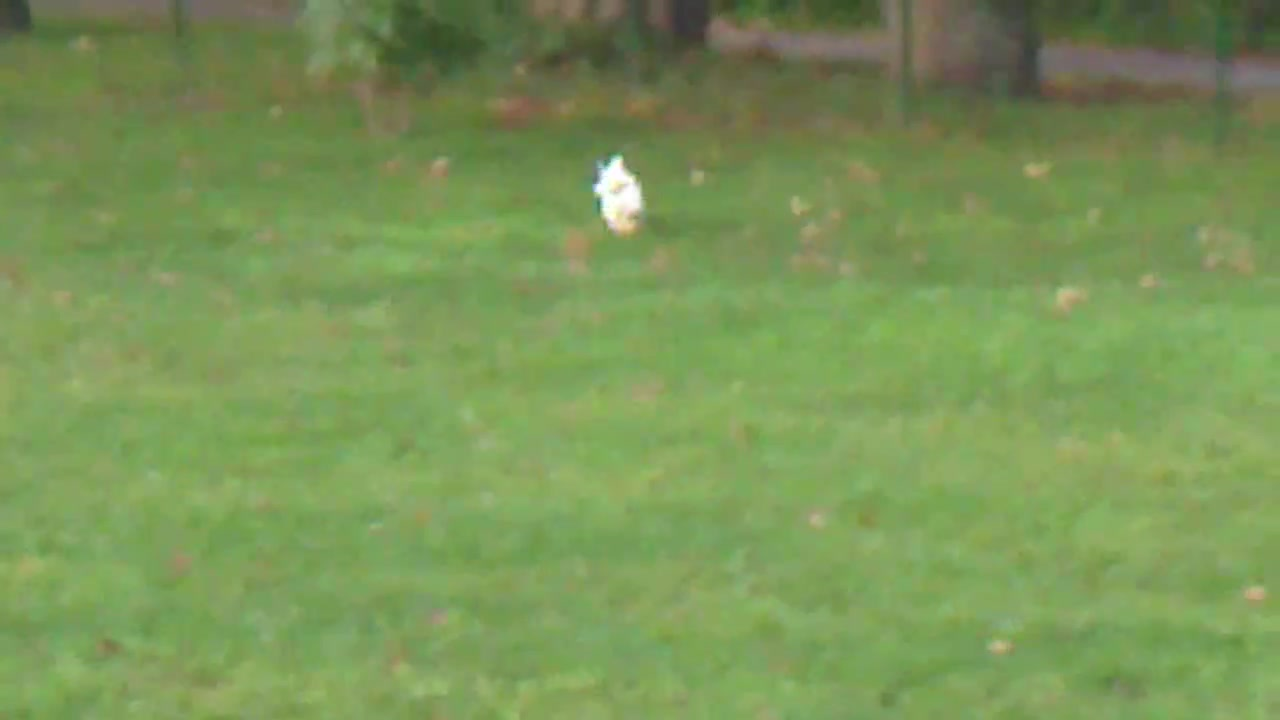dog: (592, 150, 645, 235)
